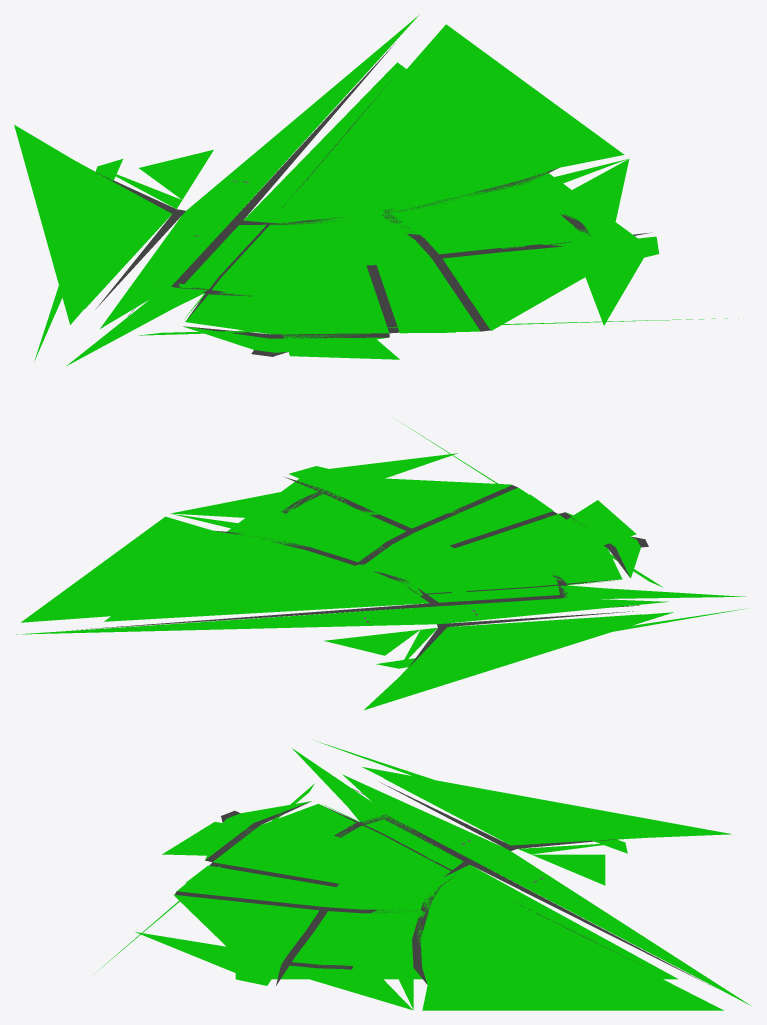
The picture shows the model from 3 angles, top to bottom: view 1: azimuth 30°, elevation 25°; view 2: azimuth 150°, elevation 25°; view 3: azimuth 270°, elevation 25°; orthographic projection. The views are drawn at different scales.
Bounding box in the file's own units: 261 × 2.5 × 300.
